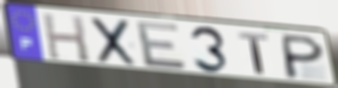3: (185, 25, 230, 74)
E: (134, 19, 189, 71)
H: (40, 11, 93, 64)
P: (281, 32, 327, 81)
T: (236, 31, 271, 76)
X: (89, 16, 138, 68)
